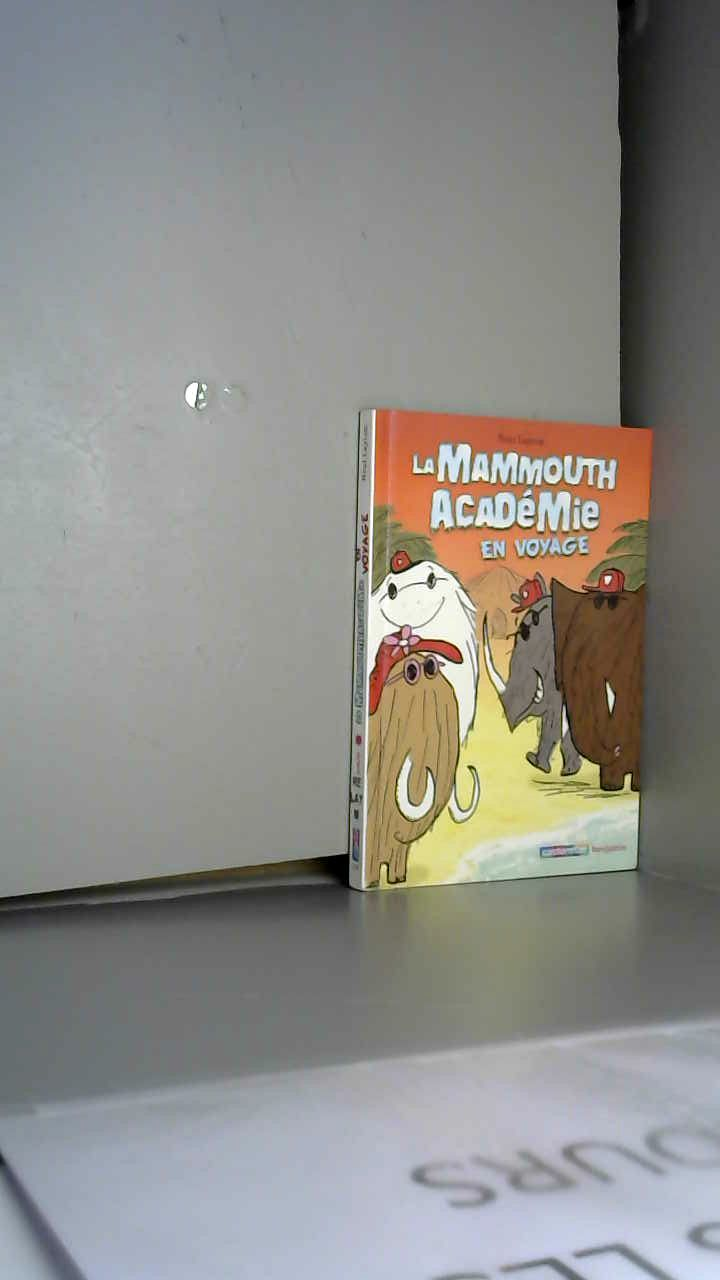book: (320, 360, 718, 940)
